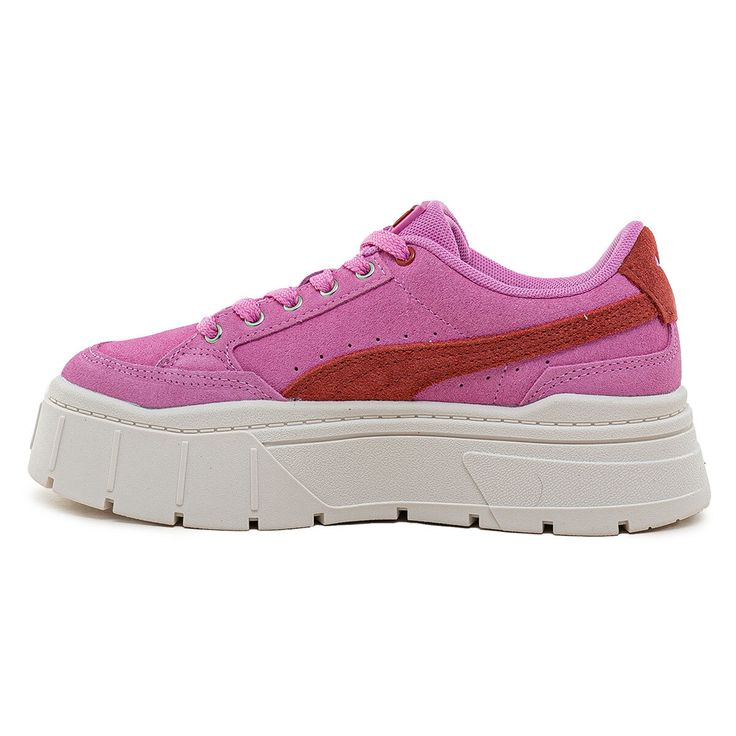gamuza: (61, 226, 681, 410)
